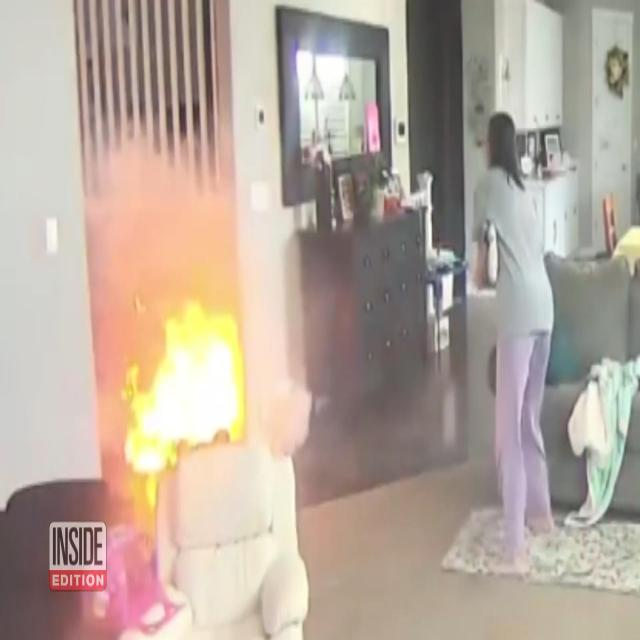fire: (120, 298, 246, 472)
